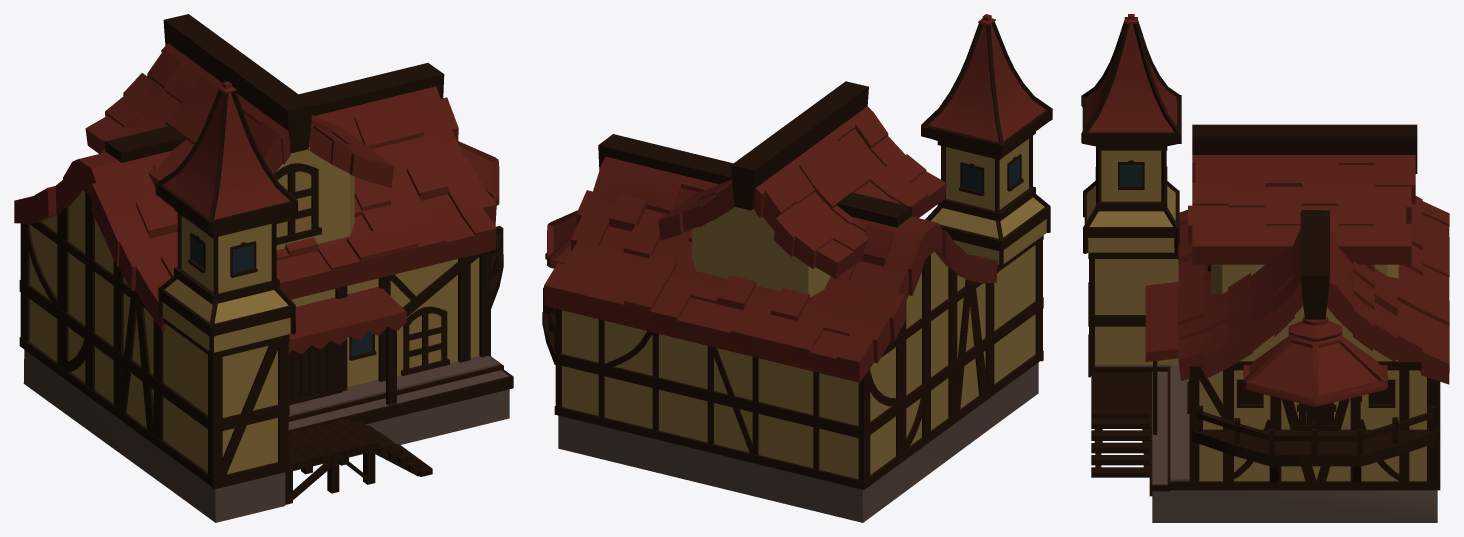
The model's file is xingzhenglou.fbx.
3 renders of one model, left to right at view 1: azimuth 30°, elevation 25°; view 2: azimuth 150°, elevation 25°; view 3: azimuth 270°, elevation 25°, orthographic. The views are drawn at different scales.
Parts seen in each view (by area): view 1: Plane011, Box086; view 2: Plane011, Box086; view 3: Plane011, Box086.
Part boxes in pixels (box(x1,y1,x2,y2)): Plane011: box(14, 14, 513, 504); Box086: box(23, 350, 509, 522); Plane011: box(542, 14, 1052, 489); Box086: box(558, 362, 1038, 522); Plane011: box(1081, 14, 1449, 496); Box086: box(1095, 365, 1437, 522).
Bounding box in the file's own units: 858 × 826 × 722.
